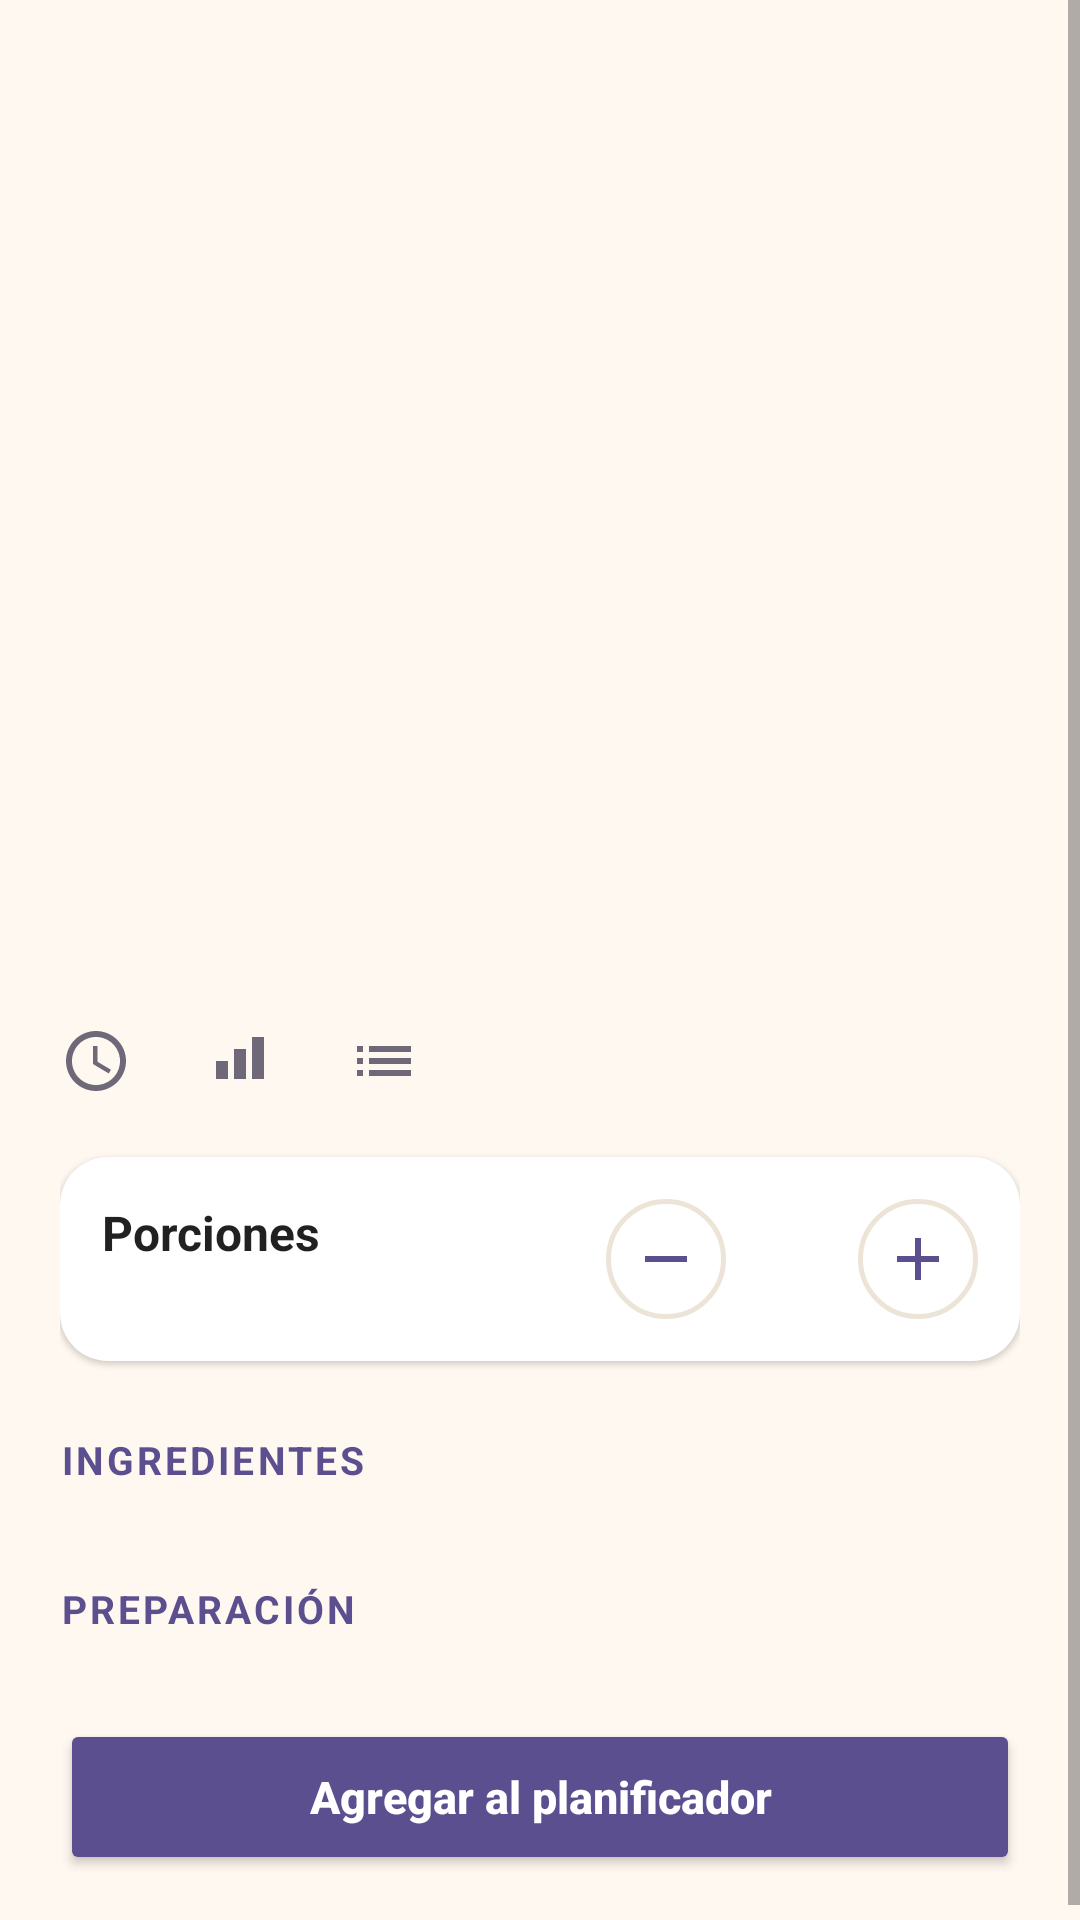

Icon bounding boxes for this 1080px x 1920px phone screenshot, format (x1, y1, x2, y2):
Menos porciones: (606, 1199, 726, 1319)
Más porciones: (858, 1199, 978, 1319)
